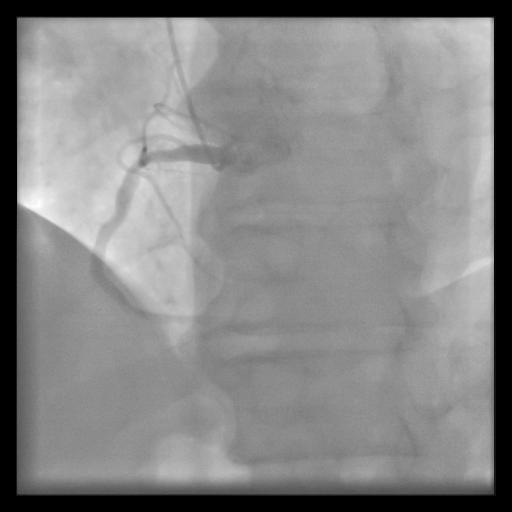Stenosis: (128, 150, 160, 170)
